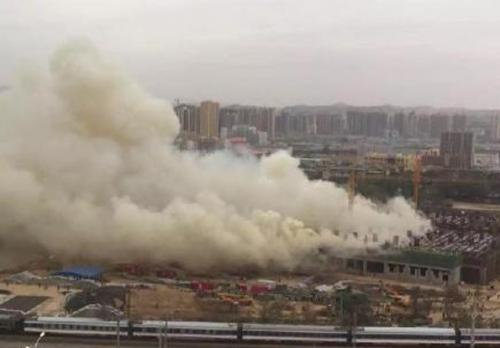smoke: (7, 98, 413, 275)
